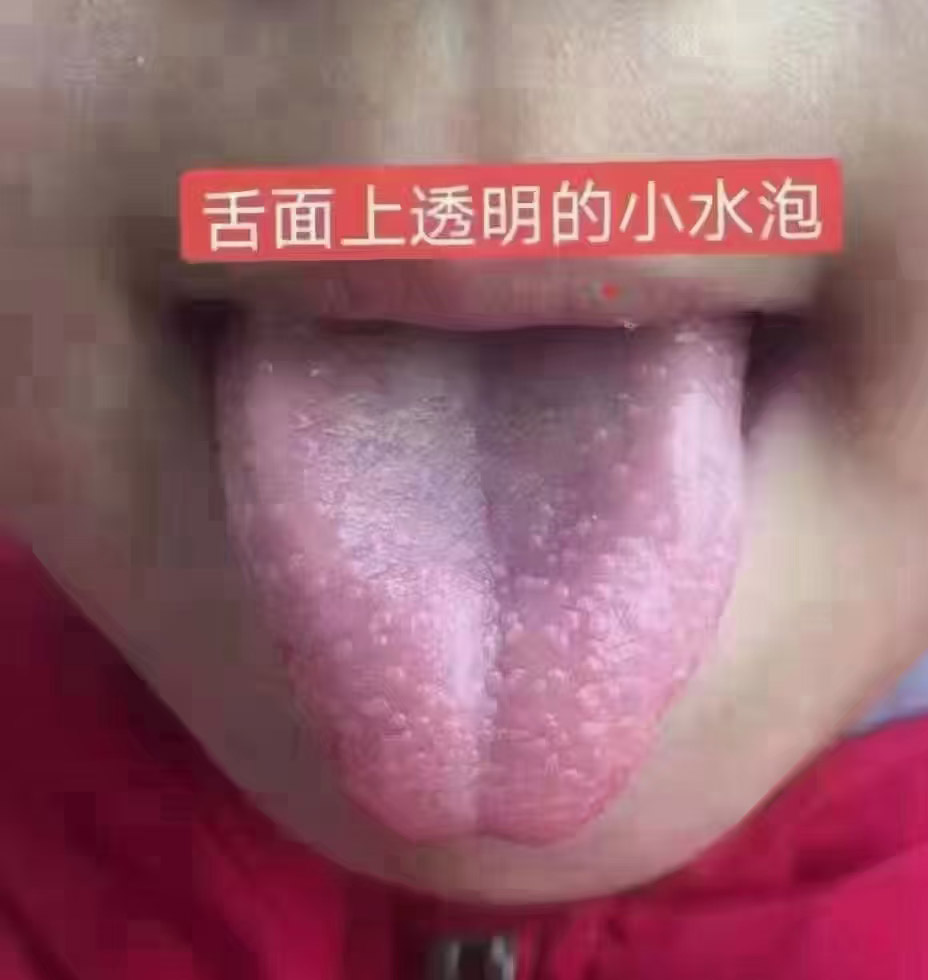botaishe: (324, 494, 629, 768)
